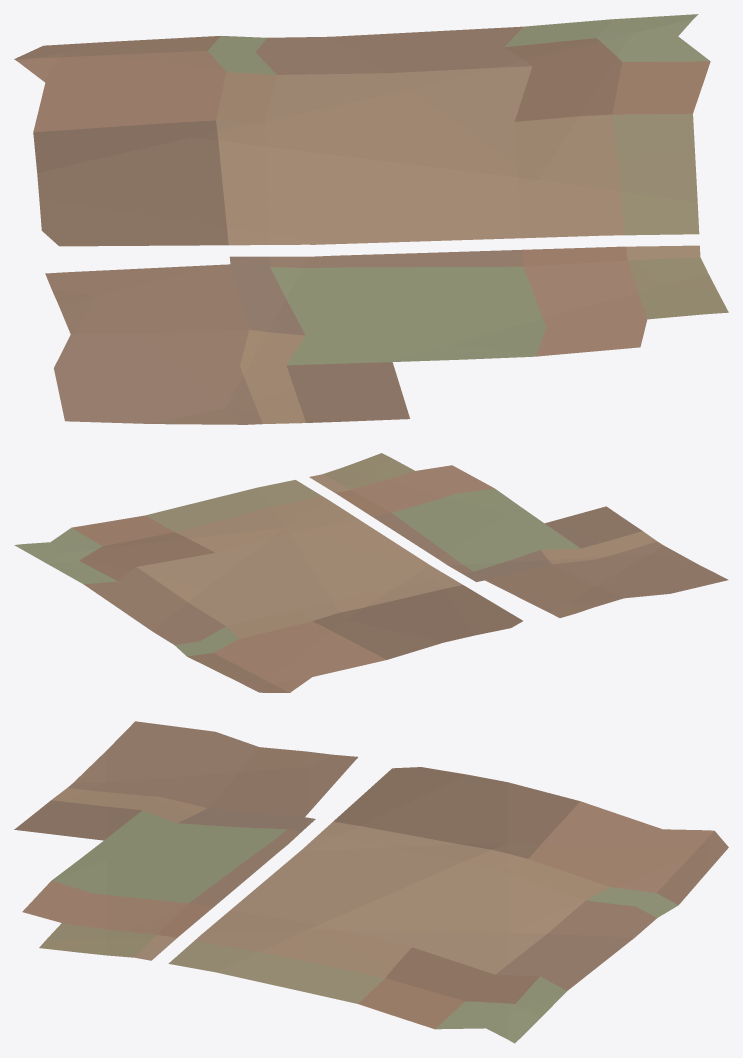
The model's file is farm_13_8_soil.glb.
3 renders of one model, top to bottom at view 1: azimuth 30°, elevation 25°; view 2: azimuth 150°, elevation 25°; view 3: azimuth 270°, elevation 25°, orthographic. The views are drawn at different scales.
Parts seen in each view (by area): view 1: geometry_0; view 2: geometry_0; view 3: geometry_0.
Boxes of the visible parts, x1,y1,x2,y2 form: geometry_0: [14, 14, 728, 424]; geometry_0: [14, 453, 728, 692]; geometry_0: [14, 721, 728, 1043].
Bounding box in the file's own units: 317 × 11.67 × 285.
